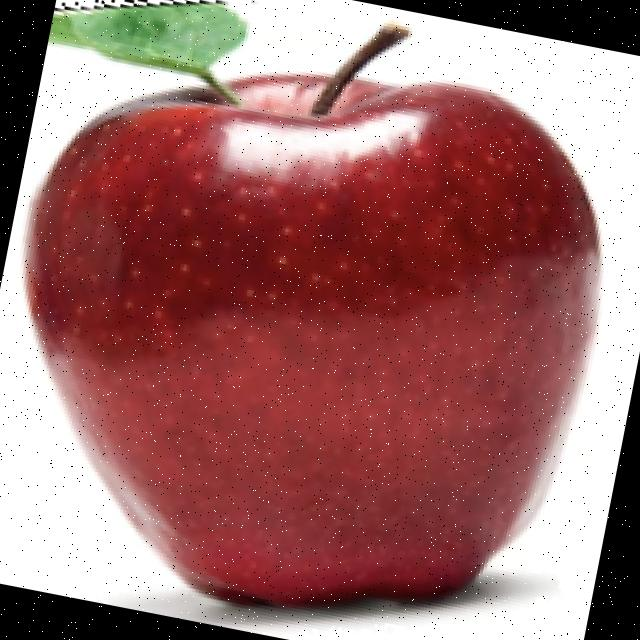apple: (17, 20, 605, 634)
